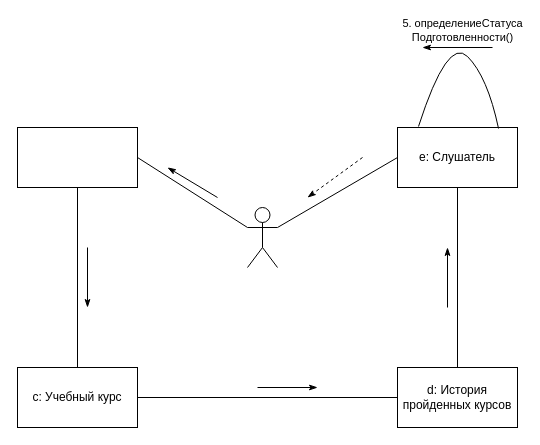
Image size: 540x445. Some labels were removed from this diagram. Here are the shapes that lost their labels. From the top down, the centre of each, then its label:
At (x=77, y=157): "b: Семинар курса".
At (x=262, y=237): "a: Студент".
